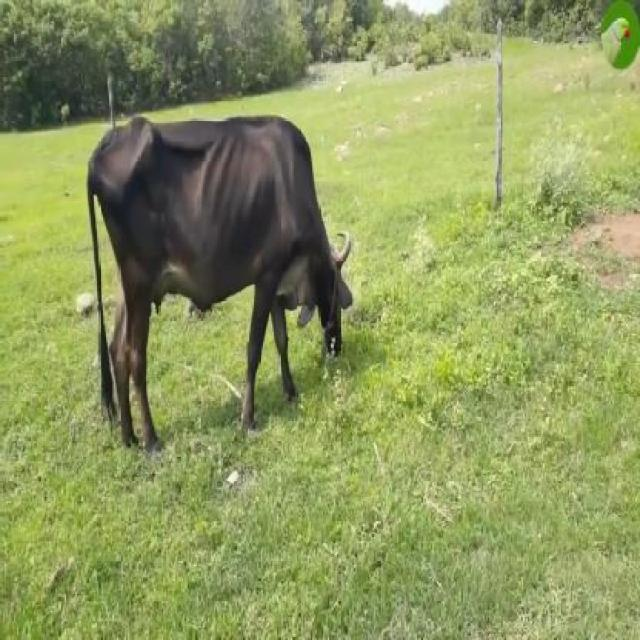Cow: (86, 117, 354, 471)
